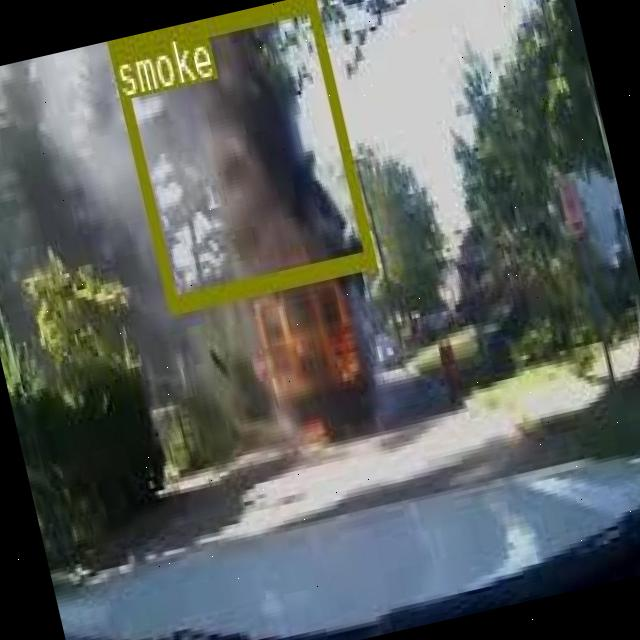smoke: (106, 0, 374, 311)
